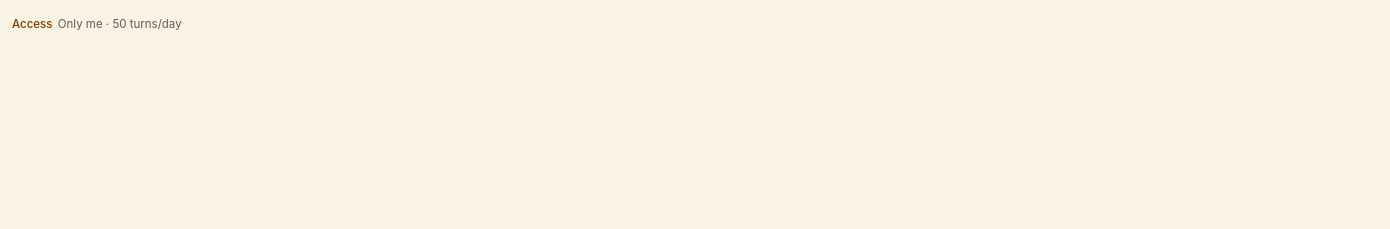
AgentAccessPanel › folds the editor under a one-line summary
The image size is (1390, 229).
Expected: the field labelled "Who can use this agent" is not shown
Step 1. Click the button "Access Only me · 50 turns/day" → (97, 24), box [12,16,182,32]
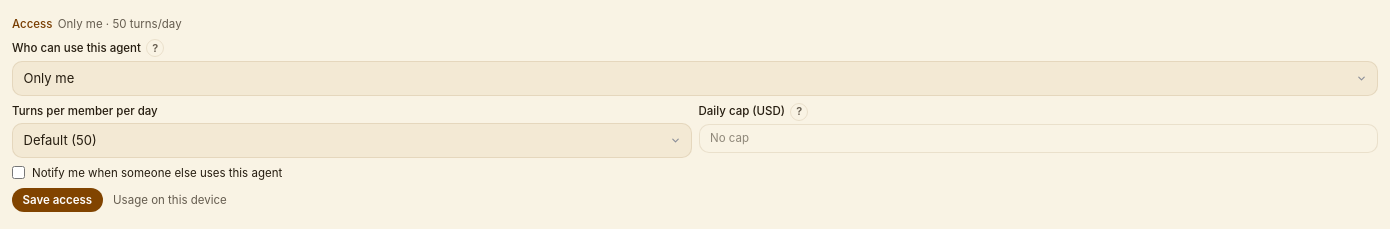
Expected: the dropdown named "Who can use this agent" is shown, [12,61,1378,96]
